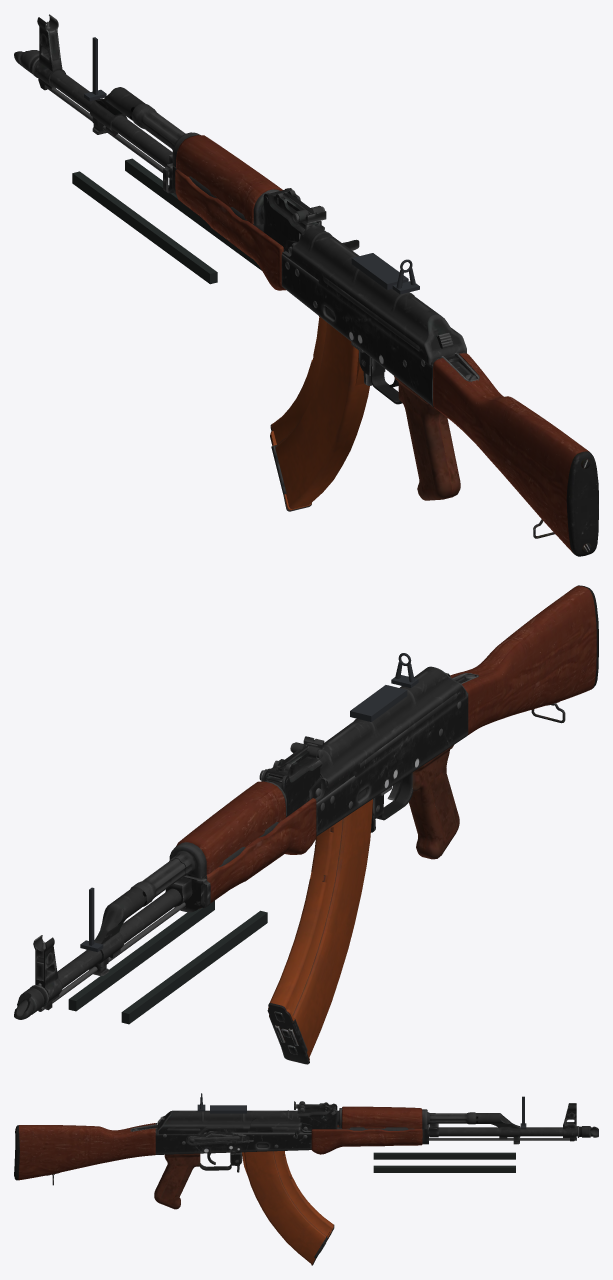
3 renders of one model, top to bottom at view 1: azimuth 30°, elevation 25°; view 2: azimuth 150°, elevation 25°; view 3: azimuth 270°, elevation 25°, orthographic. The views are drawn at different scales.
Visible parts, largest first — view 1: body, mag; view 2: body, mag; view 3: body, mag, charge.
Part boxes in pixels (x1,y1,x2,y2): body: (14, 14, 598, 556); mag: (270, 316, 369, 511); body: (14, 585, 598, 1024); mag: (267, 799, 372, 1064); body: (14, 1096, 598, 1209); mag: (242, 1151, 334, 1265); charge: (248, 1118, 300, 1138).
Bounding box in the file's own units: 0.091 × 0.3811 × 1.19.
5 materials, 3 textured.
